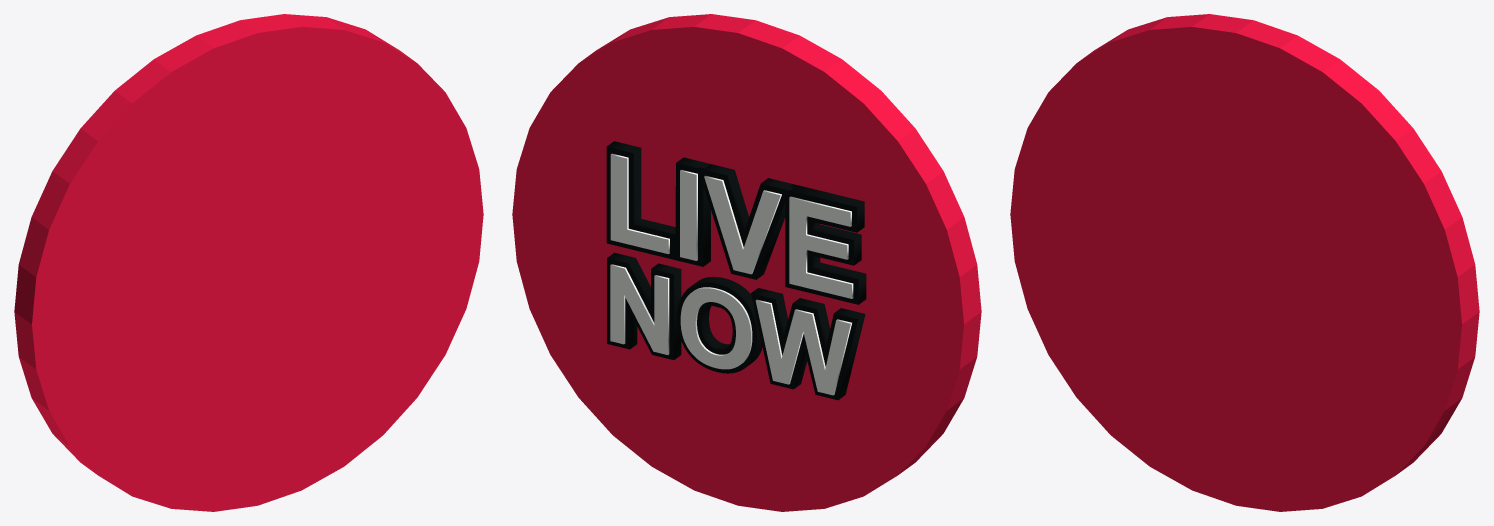
The model's file is live_bg.glb.
The picture shows the model from 3 angles, left to right: view 1: azimuth 30°, elevation 25°; view 2: azimuth 150°, elevation 25°; view 3: azimuth 330°, elevation 25°; orthographic projection.
Visible parts, largest first — view 1: live_badge; view 2: live_badge; view 3: live_badge.
Part boxes in pixels (x1=…): live_badge: x1=14, y1=14, x2=483, y2=511; live_badge: x1=512, y1=14, x2=981, y2=511; live_badge: x1=1010, y1=14, x2=1479, y2=511.
Bounding box in the file's own units: 0.8058 × 0.8058 × 0.0869.
2 materials, 2 textured.
